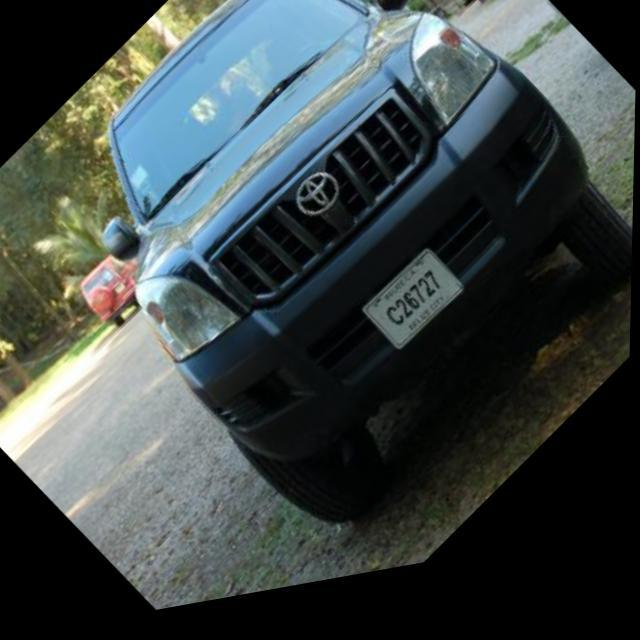license_plate: (362, 255, 468, 372)
